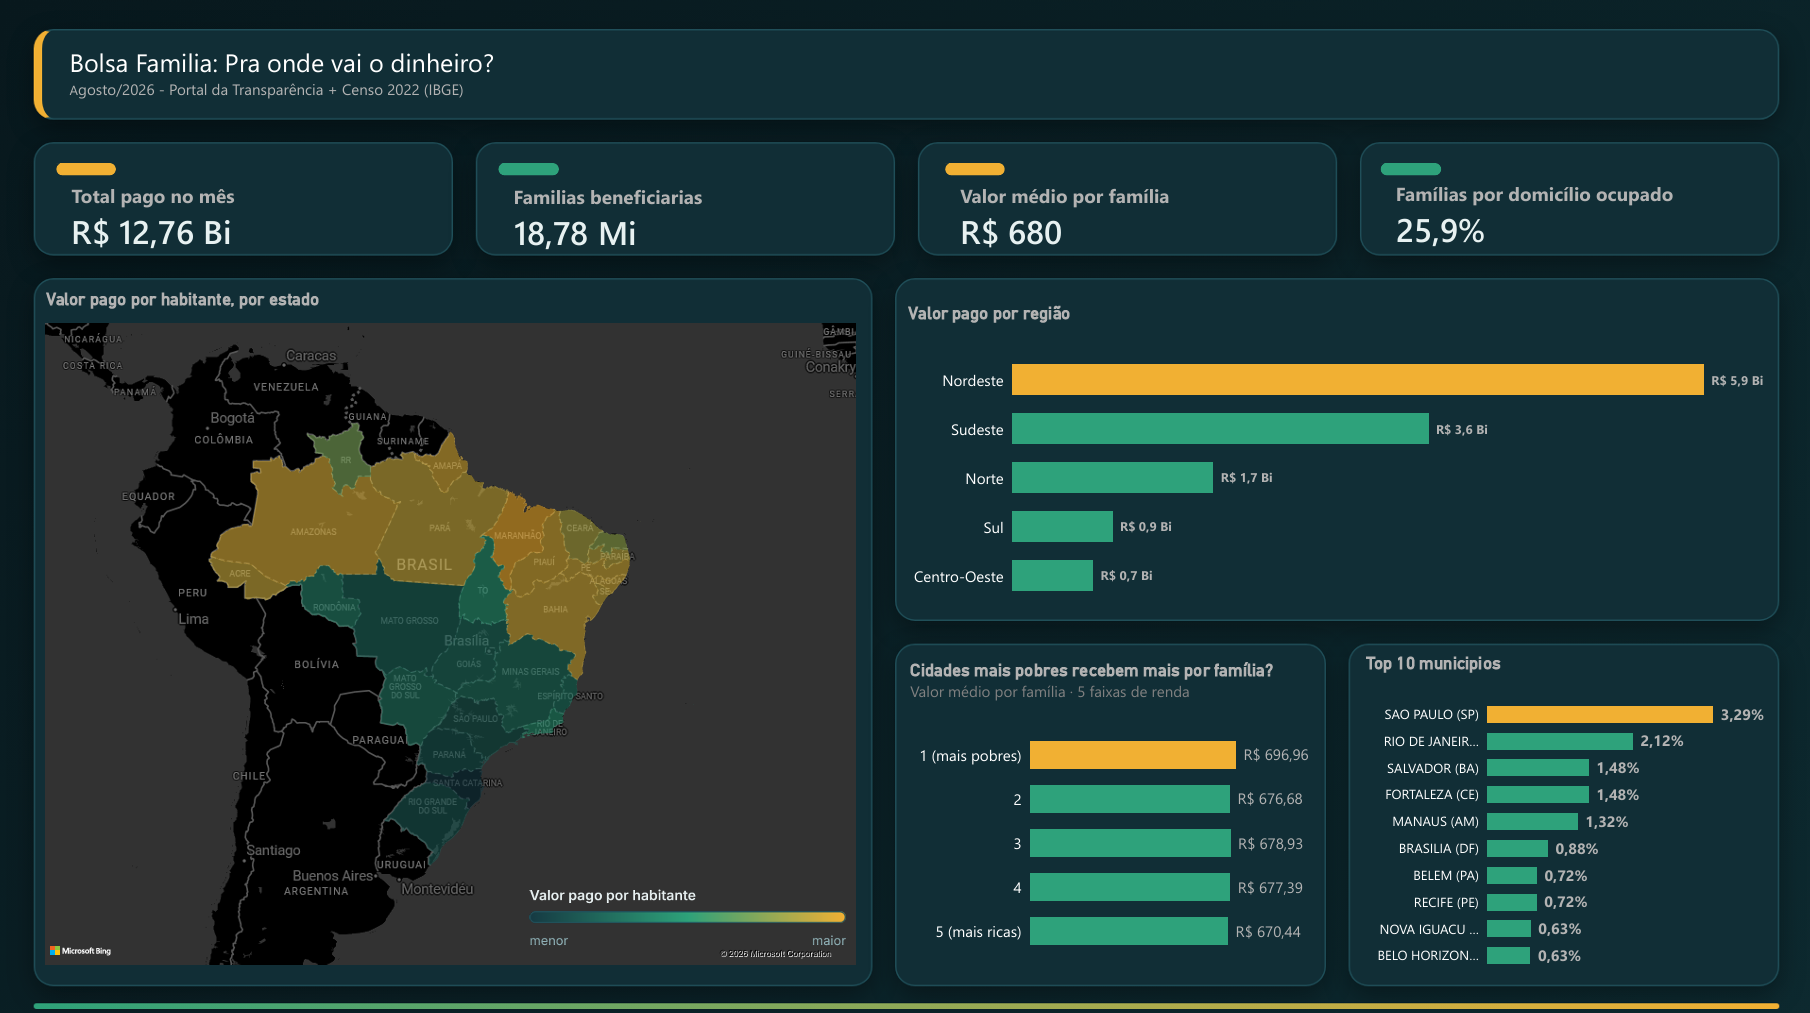

Layout of this report page (visuals, bound fields, positions):
{"tool":"powerbi","page":{"name":"Página 1","canvas":[1920,1080],"ordinal":0},"visuals":[{"type":"cardVisual","fields":{"Data":["Sum(municipio_final.total_pago)"]},"box":[59.7,184.6,416.2,92.3],"z":0},{"type":"shape","box":[59.7,171.9,63.3,12.7],"z":1},{"type":"textbox","box":[74.2,47.1,761.9,72.4],"z":2},{"type":"shape","box":[528.4,171.9,63.3,12.7],"z":3},{"type":"cardVisual","fields":{"Data":["Sum(municipio_final.familias)"]},"box":[528.4,186.4,354.7,92.3],"z":4},{"type":"cardVisual","fields":{"Data":["municipio_final.Valor médio por família"]},"box":[1000.7,184.6,380,92.3],"z":5},{"type":"shape","box":[1000.7,171.9,63.3,12.7],"z":6},{"type":"cardVisual","fields":{"Data":["municipio_final.Cobertura %"]},"box":[1462.2,186.4,376.4,85.1],"z":7},{"type":"shape","box":[1462.2,171.9,63.3,12.7],"z":8},{"type":"barChart","title":"Valor pago por região","fields":{"Category":["municipio_final.regiao"],"Y":["Sum(municipio_final.total_pago)"]},"box":[946.5,305.8,937.4,358.3],"z":9},{"type":"barChart","title":"Top 10 municipios","fields":{"Category":["municipio_final.Município (UF)"],"Y":["municipio_final.% do total"]},"box":[1429.6,676.8,454.2,371],"z":10},{"type":"barChart","title":"Cidades mais pobres recebem mais por família?","fields":{"Category":["municipio_final.Faixa de renda"],"Y":["municipio_final.Valor médio por família"]},"box":[948.3,684.1,454.2,352.9],"z":11},{"type":"filledMap","title":"Valor pago por habitante, por estado","fields":{"Category":["municipio_final.Local"]},"box":[32.6,291.4,890.4,745.6],"z":12},{"type":"image","box":[561,924.7,334.8,94.1],"z":13}]}

Visuals, with their boxes in screenshot pixels (x1, y1, x2, y2), scaled from the page's 1920x1080 canvas onto the 1810x1013 screenshot:
cardVisual - Sum(municipio_final.total_pago): left=56, top=173, right=449, bottom=260
shape: left=56, top=161, right=116, bottom=173
textbox: left=70, top=44, right=788, bottom=112
shape: left=498, top=161, right=558, bottom=173
cardVisual - Sum(municipio_final.familias): left=498, top=175, right=833, bottom=261
cardVisual - municipio_final.Valor médio por família: left=943, top=173, right=1302, bottom=260
shape: left=943, top=161, right=1003, bottom=173
cardVisual - municipio_final.Cobertura %: left=1378, top=175, right=1733, bottom=255
shape: left=1378, top=161, right=1438, bottom=173
"Valor pago por região" barChart: left=892, top=287, right=1776, bottom=623
"Top 10 municipios" barChart: left=1348, top=635, right=1776, bottom=983
"Cidades mais pobres recebem mais por família?" barChart: left=894, top=642, right=1322, bottom=973
"Valor pago por habitante, por estado" filledMap: left=31, top=273, right=870, bottom=973
image: left=529, top=867, right=844, bottom=956
